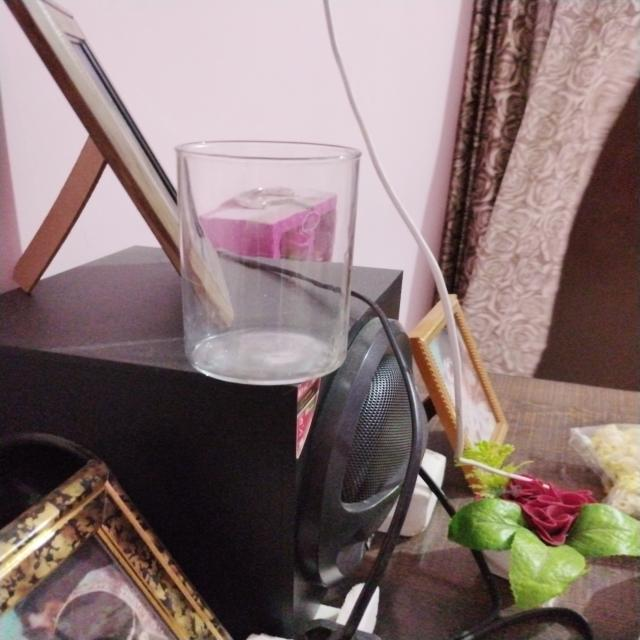Glass: (170, 137, 364, 387)
